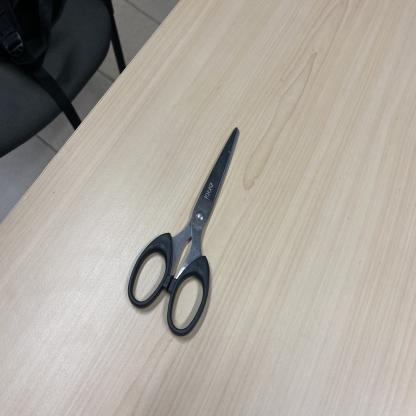scissors: (127, 127, 240, 339)
